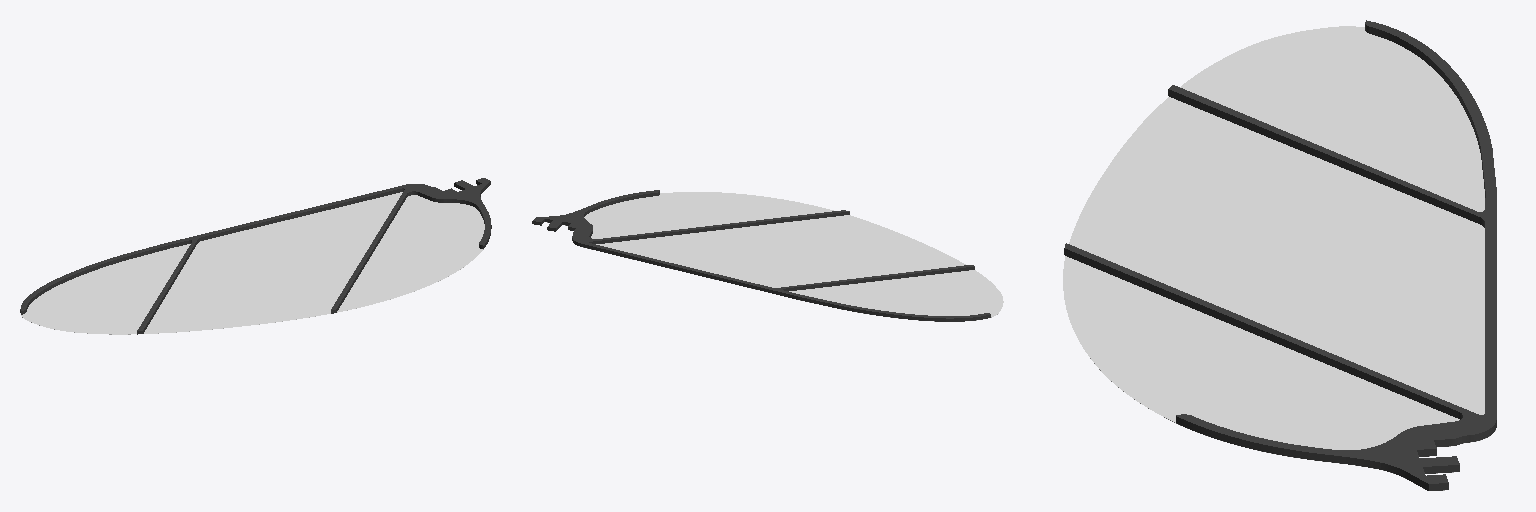
URDF robot description (wing_asy_right):
<!--URDF generated by ONSHAPE BY PTC INC, 1.215-->
<robot name="wing_asy_right">
    <link name="part_1">
        <inertial>
            <mass value="4.70198e-10" />
            <origin xyz="-0.0153104 -0.000924838 4.9e-05" rpy="0 -0 0" />
            <inertia ixx="0" ixy="0" ixz="0" iyy="7.25752e-15" iyz="0" izz="8.07701e-15" />
        </inertial>
        <visual>
            <origin xyz="0 0 0" rpy="0 -0 0" />
            <geometry>
                <mesh filename="package://wing_asy_right/meshes/Part_1.obj" scale="1 1 1" />
            </geometry>
            <material name="0.301961_0.301961_0.301961_0.000000_0.000000">
                <color rgba="0.301961 0.301961 0.301961 1" />
            </material>
        </visual>
    </link>
    <link name="part_1_1">
        <inertial>
            <mass value="8.16534e-11" />
            <origin xyz="-0.00677543 -0.00179668 -7.5e-07" rpy="0 -0 0" />
            <inertia ixx="0" ixy="0" ixz="0" iyy="0" iyz="0" izz="1.01421e-15" />
        </inertial>
        <visual>
            <origin xyz="0.00998824 -0.000694768 -1.5e-06" rpy="0 -0 0" />
            <geometry>
                <mesh filename="package://wing_asy_right/meshes/Part_1_1.obj" scale="1 1 1" />
            </geometry>
            <material name="0.917647_0.917647_0.917647_0.000000_0.901961">
                <color rgba="0.917647 0.917647 0.917647 0.0980392" />
            </material>
        </visual>
    </link>
    <link name="root" />
    <joint name="fastened_1" type="fixed">
        <origin xyz="-0.010204 -0.000187856 3.97089e-18" rpy="2.11697e-49 -1.65436e-24 -2.55926e-25" />
        <axis xyz="0 0 1" />
        <parent link="part_1" />
        <child link="part_1_1" />
    </joint>
    <joint name="fixed_node_to_root_joint" type="fixed">
        <origin xyz="0.0155574 0.00108164 -4.16358e-05" rpy="3.50068e-08 -1.35618e-08 -3.4518e-09" />
        <axis xyz="0 0 1" />
        <parent link="root" />
        <child link="part_1" />
    </joint>
</robot>

--- Facts derived from the render (not from the file) ---
The picture shows the robot from 3 angles, left to right: view 1: azimuth 30°, elevation 25°; view 2: azimuth 150°, elevation 25°; view 3: azimuth 270°, elevation 25°; orthographic projection.
Robot: wing_asy_right — 3 links, 2 joints (2 fixed); root link root; default pose: every joint at zero.
Links seen in each view (by area): view 1: part_1_1, part_1; view 2: part_1_1, part_1; view 3: part_1_1, part_1.
Boxes of the visible links, bbox=[...] form: part_1_1: bbox=[21, 192, 484, 334]; part_1: bbox=[20, 178, 491, 334]; part_1_1: bbox=[547, 192, 1003, 321]; part_1: bbox=[532, 190, 990, 321]; part_1_1: bbox=[1063, 26, 1495, 490]; part_1: bbox=[1064, 20, 1496, 490].
Bounding box of the posed robot: 0.0135 × 0.0053 × 0.0001 m (x, y, z).
2 mesh visuals loaded from 2 distinct referenced files (2 OBJ).
